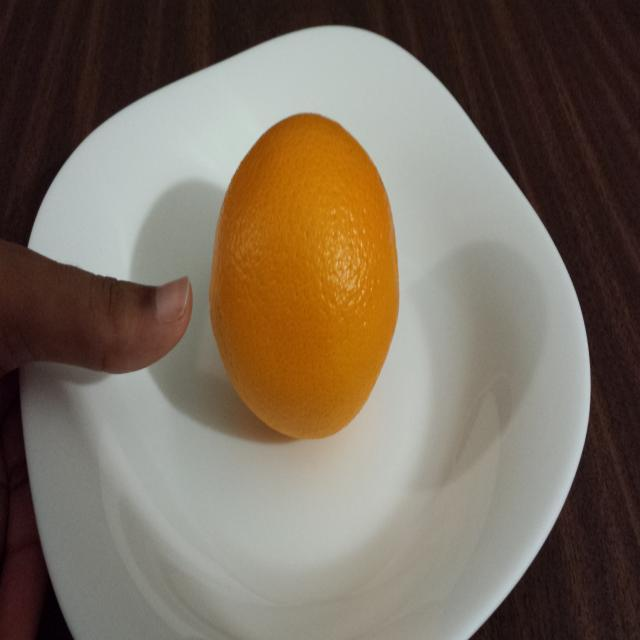Orange: (200, 99, 422, 460)
